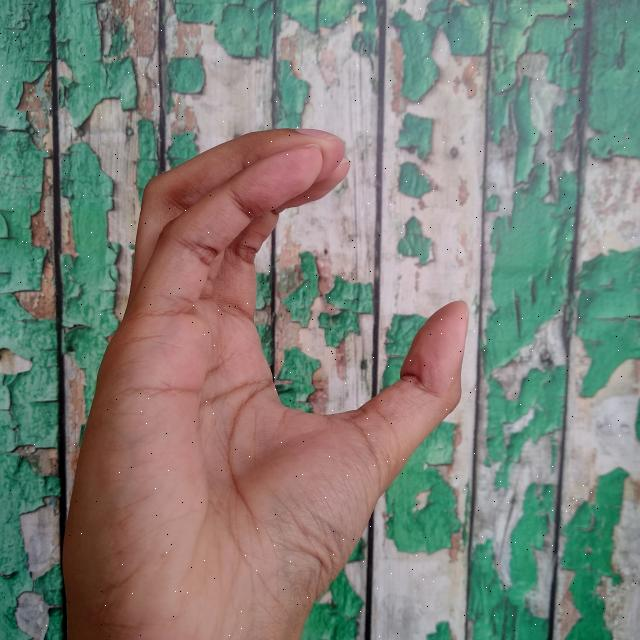C: (59, 125, 470, 640), (58, 127, 468, 640)
